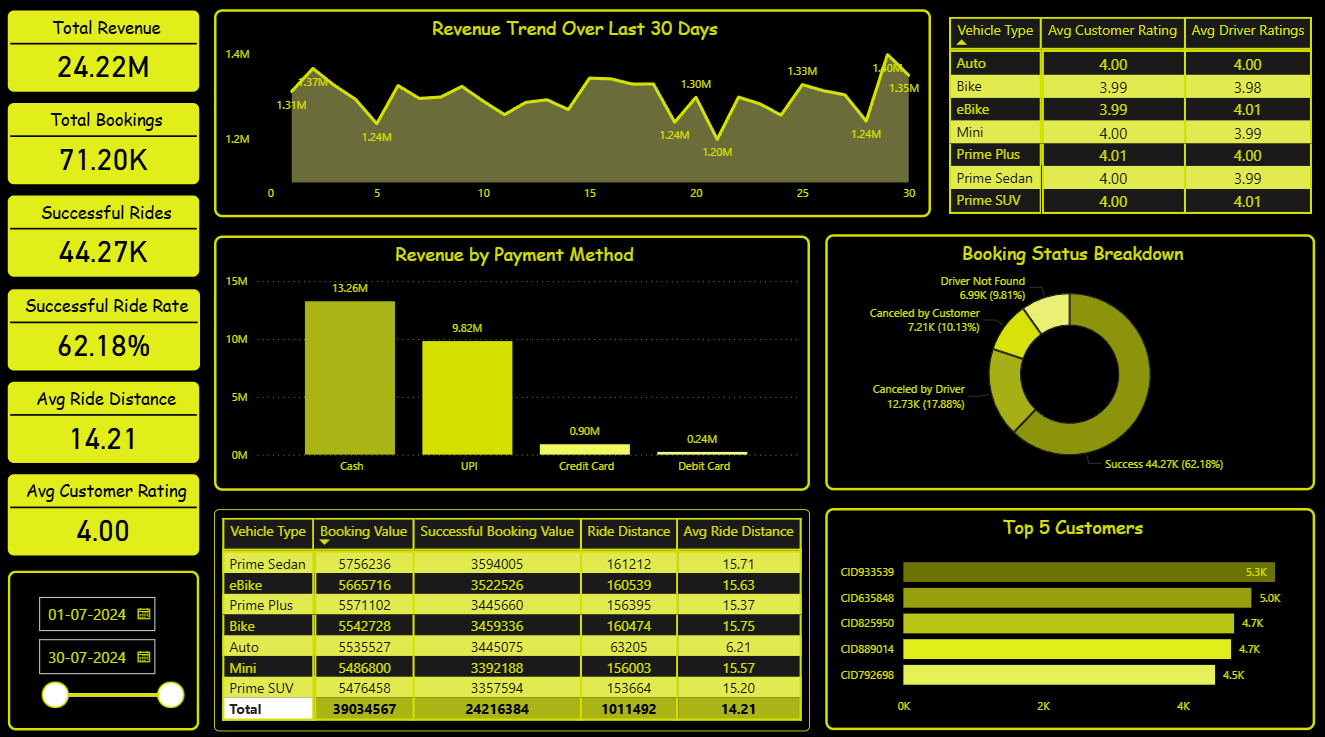

This screenshot's page, from the dashboard's own definition file:
{"tool":"powerbi","page":{"name":"Ride Performance Overview","canvas":[1280,720],"ordinal":0},"visuals":[{"type":"donutChart","title":"Booking Status Breakdown","fields":{"Category":["ride_data.Booking_Status"],"Y":["CountNonNull(ride_data.Booking_ID)"]},"box":[797.5,228,472.9,247.3],"z":0},{"type":"lineChart","title":"Revenue Trend Over Last 30 Days","fields":{"Category":["ride_data.Date.Variation.Date Hierarchy.Day"],"Y":["Sum(ride_data.Booking_Value)"]},"box":[207.9,11.4,692.1,200.8],"z":1000},{"type":"clusteredColumnChart","title":"Revenue by Payment Method","fields":{"Y":["Sum(ride_data.Booking_Value)"],"Category":["ride_data.Payment_Method"]},"box":[207.5,229.2,575.5,246.1],"z":2000},{"type":"card","title":"Total Bookings","fields":{"Values":["CountNonNull(ride_data.Booking_ID)"]},"box":[8.8,101.3,185,78.8],"z":3000},{"type":"card","title":"Total Revenue","fields":{"Values":["ride_data.Successful Booking Value"]},"box":[8.8,12.5,185,78.8],"z":4000},{"type":"card","title":"Avg Ride Distance","fields":{"Values":["Avg(ride_data.Ride_Distance)"]},"box":[8.8,370.1,185,78.8],"z":5000},{"type":"card","title":"Avg Customer Rating","fields":{"Values":["Avg(ride_data.Customer_Rating)"]},"box":[8.8,460.1,185,78.8],"z":6000},{"type":"card","title":"Successful Ride Rate","fields":{"Values":["ride_data.Successful Ride Rate"]},"box":[8.4,281.1,185.8,78.4],"z":7000},{"type":"pivotTable","fields":{"Rows":["ride_data.Vehicle_Type"],"Values":["Sum(ride_data.Booking_Value)","ride_data.Successful Booking Value","Sum(ride_data.Ride_Distance)","Avg(ride_data.Ride_Distance)"]},"box":[207.5,493.4,575.5,214.7],"z":8000},{"type":"slicer","fields":{"Values":["ride_data.Date"]},"box":[8.4,552.5,184.6,154.4],"z":9000},{"type":"pivotTable","fields":{"Rows":["ride_data.Vehicle_Type"],"Values":["Avg(ride_data.Customer_Rating)","Avg(ride_data.Driver_Ratings)"]},"box":[912.1,13.3,364.3,212.3],"z":10000},{"type":"clusteredBarChart","title":"Top 5 Customers","fields":{"Category":["ride_data.Customer_ID"],"Y":["Sum(ride_data.Booking_Value)"]},"box":[797.5,492.2,472.9,214.7],"z":11000},{"type":"card","title":"Successful Rides","fields":{"Values":["ride_data.Successful Rides"]},"box":[8.8,190,185,78.8],"z":12000}]}

Visuals, with their boxes in screenshot pixels (x1, y1, x2, y2), scaled from the page's 1280x720 canvas onto the 1325x737 screenshot:
"Booking Status Breakdown" donutChart: [826, 233, 1315, 487]
"Revenue Trend Over Last 30 Days" lineChart: [215, 12, 932, 217]
"Revenue by Payment Method" clusteredColumnChart: [215, 235, 811, 487]
"Total Bookings" card: [9, 104, 201, 184]
"Total Revenue" card: [9, 13, 201, 93]
"Avg Ride Distance" card: [9, 379, 201, 459]
"Avg Customer Rating" card: [9, 471, 201, 552]
"Successful Ride Rate" card: [9, 288, 201, 368]
pivotTable - ride_data.Vehicle_Type x Sum(ride_data.Booking_Value): [215, 505, 811, 725]
slicer - ride_data.Date: [9, 566, 200, 724]
pivotTable - ride_data.Vehicle_Type x Avg(ride_data.Customer_Rating): [944, 14, 1321, 231]
"Top 5 Customers" clusteredBarChart: [826, 504, 1315, 724]
"Successful Rides" card: [9, 194, 201, 275]
